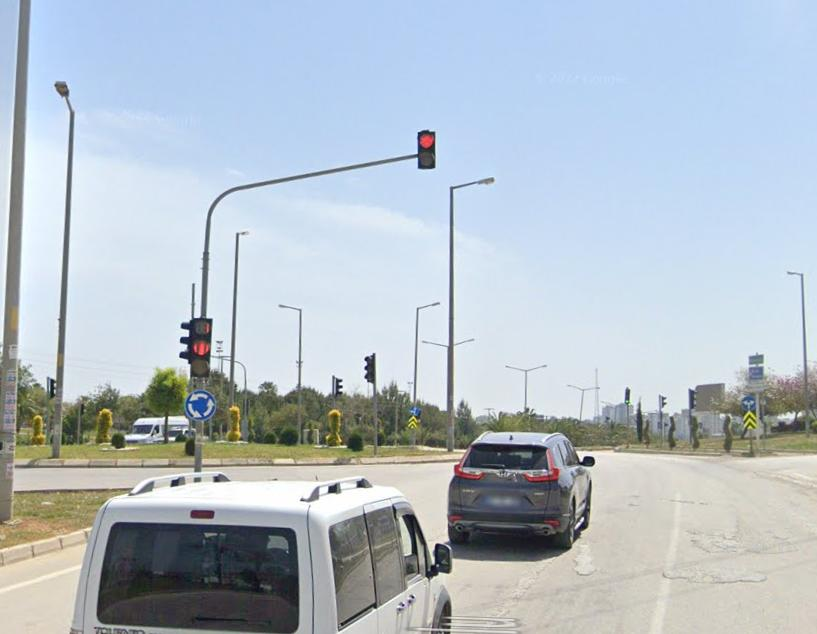crossroads: (186, 391, 216, 421)
redlight: (188, 321, 211, 376), (419, 128, 438, 170)
